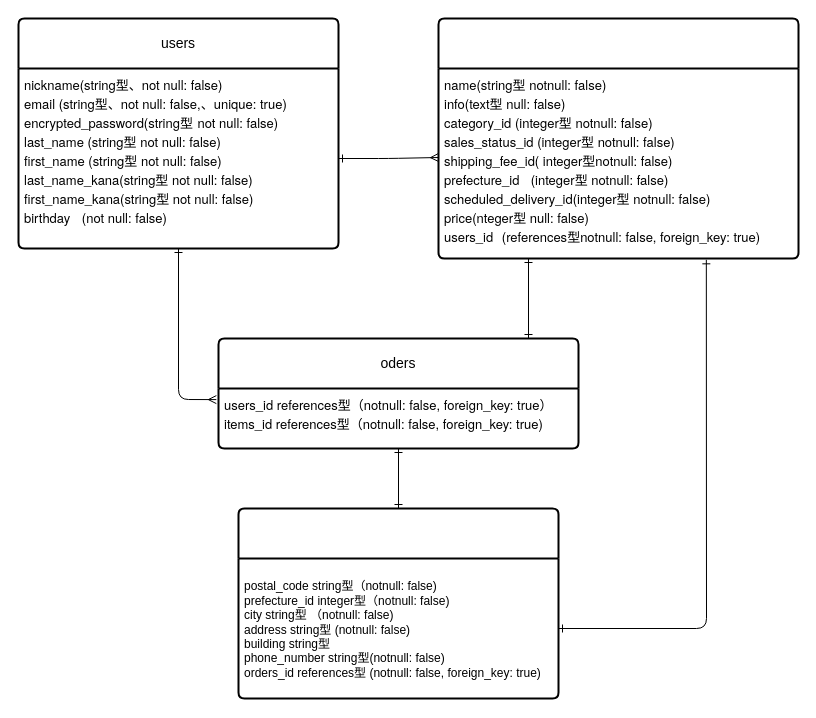
The diagram is 816 pixels wide and 718 high, and some of its shapes have lost their labels. Each missing label, with the box of its shape:
addresses: (237, 507, 559, 699)
items: (437, 17, 799, 259)
